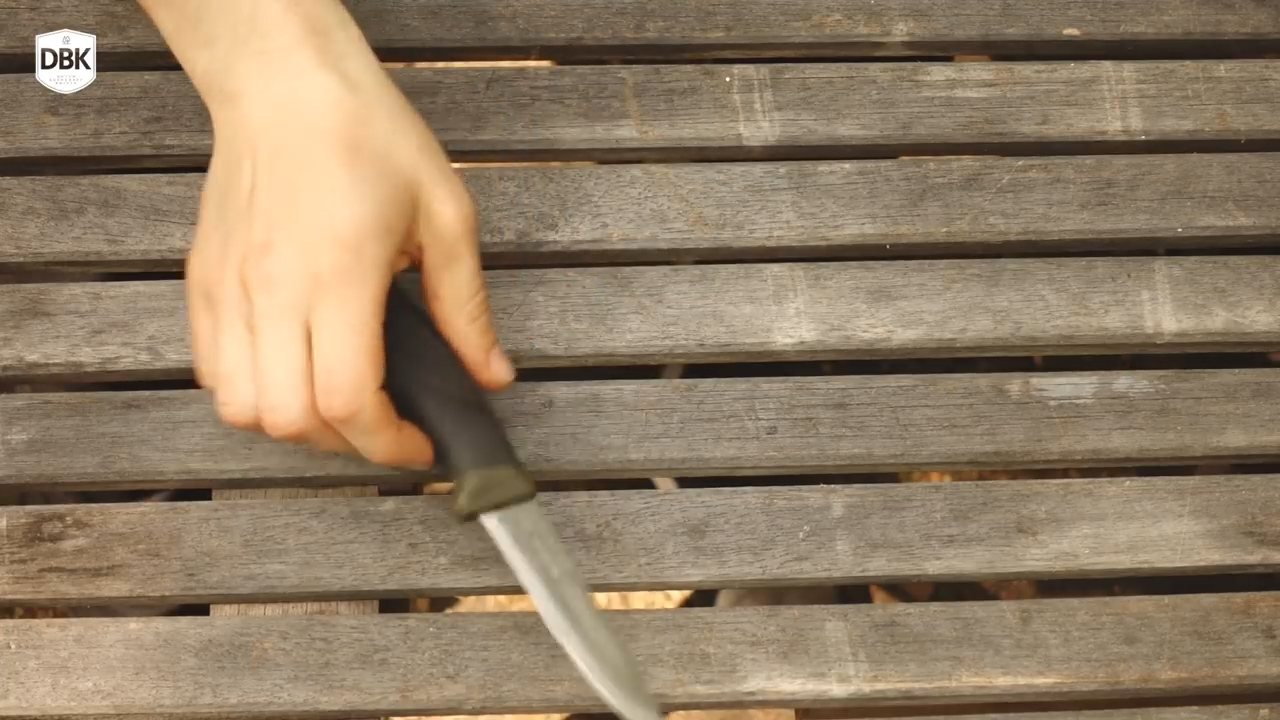knife: (294, 276, 684, 720)
